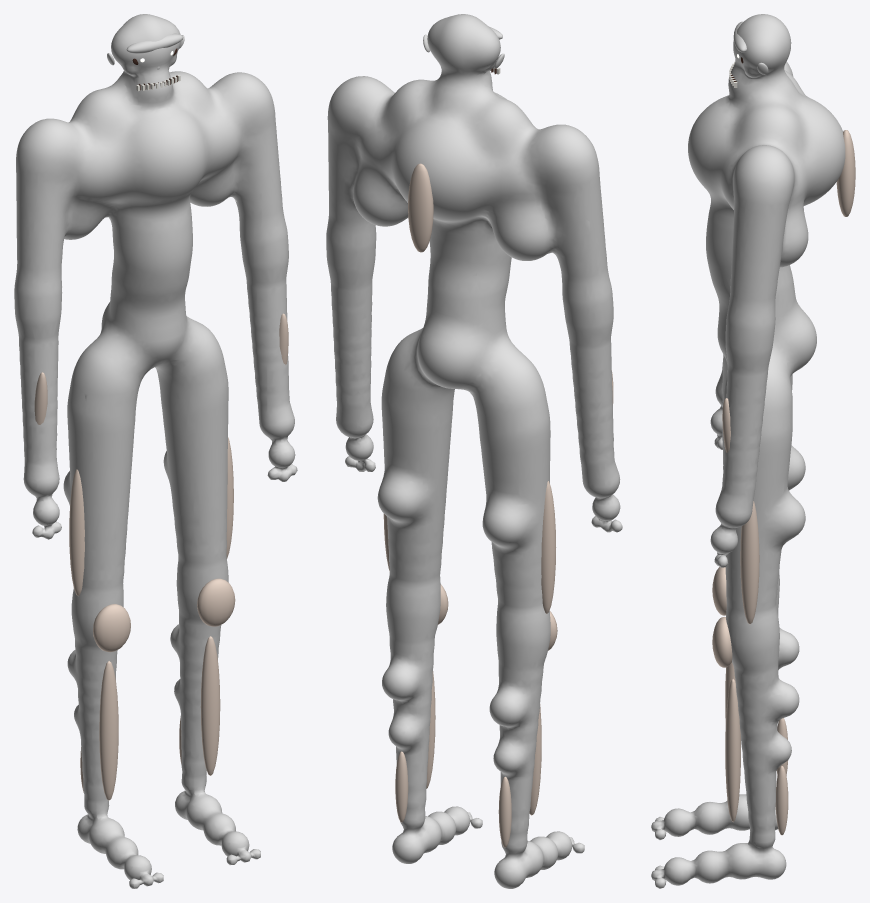
File: colossus-titan.glb
3 renders of one model, left to right at view 1: azimuth 30°, elevation 25°; view 2: azimuth 150°, elevation 25°; view 3: azimuth 270°, elevation 25°, orthographic. The views are drawn at different scales.
Parts seen in each view (by area): view 1: Muscle.001, Sinew.001, Sinew, Sinew.005, Sinew.002, Sinew.003, Sinew.004, Brow, Sinew.007; view 2: Muscle.001, Sinew.008, Sinew.005, Sinew.009, Sinew.010, Sinew.001, Sinew; view 3: Muscle.001, Sinew.004, Sinew, Sinew.008, Sinew.002, Sinew.009, Sinew.003.
Boxes of the visible parts, <box> form: Muscle.001: <box>14,14,297,888</box>; Sinew.001: <box>99,661,118,800</box>; Sinew: <box>200,636,220,775</box>; Sinew.005: <box>69,469,84,595</box>; Sinew.002: <box>197,578,235,626</box>; Sinew.003: <box>93,604,130,652</box>; Sinew.004: <box>226,437,233,558</box>; Brow: <box>126,33,183,53</box>; Sinew.007: <box>34,372,47,424</box>; Muscle.001: <box>326,14,622,888</box>; Sinew.008: <box>408,163,433,252</box>; Sinew.005: <box>541,481,556,613</box>; Sinew.009: <box>395,751,408,822</box>; Sinew.010: <box>498,776,511,847</box>; Sinew.001: <box>529,704,541,815</box>; Sinew: <box>426,671,435,788</box>; Muscle.001: <box>651,14,845,888</box>; Sinew.004: <box>740,501,759,624</box>; Sinew: <box>725,679,740,821</box>; Sinew.008: <box>836,130,855,216</box>; Sinew.002: <box>712,617,732,667</box>; Sinew.009: <box>775,766,788,835</box>; Sinew.003: <box>712,567,726,615</box>.
Size of the model in its own units: 19.79 by 58.09 by 12.76.
